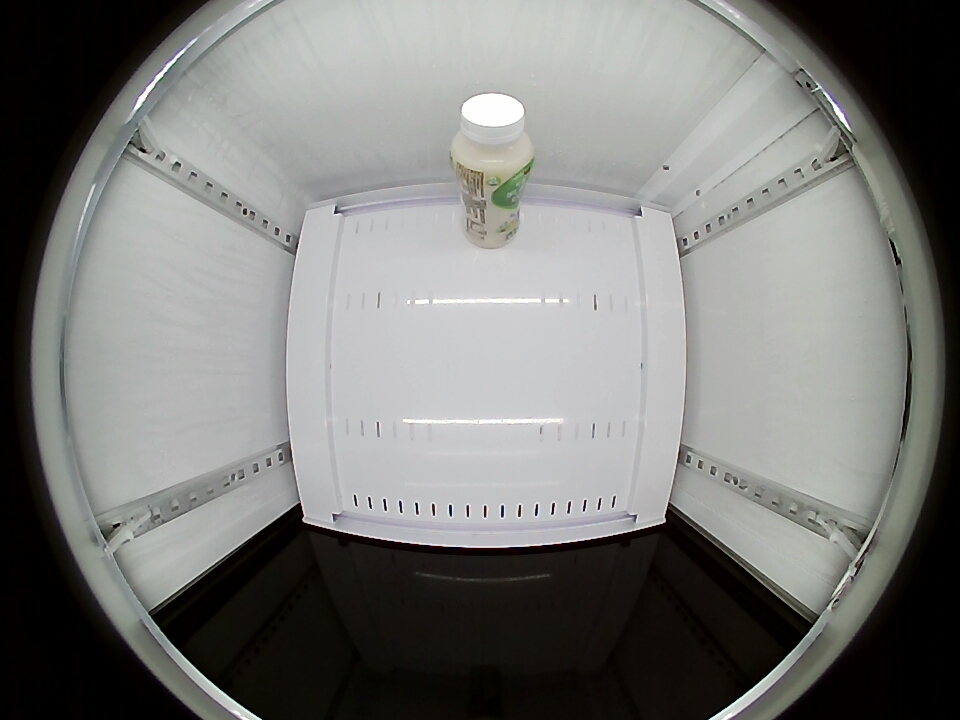yousuanru: (451, 93, 535, 184)
